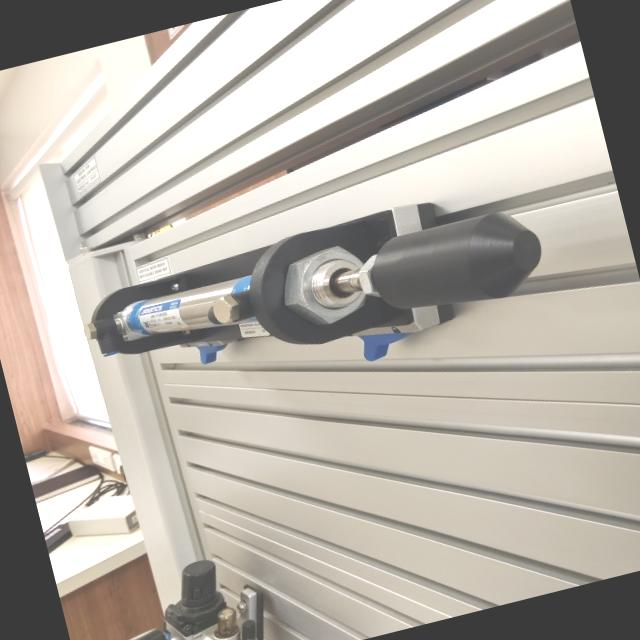double acting pneumatic cylinder: (72, 172, 563, 434)
